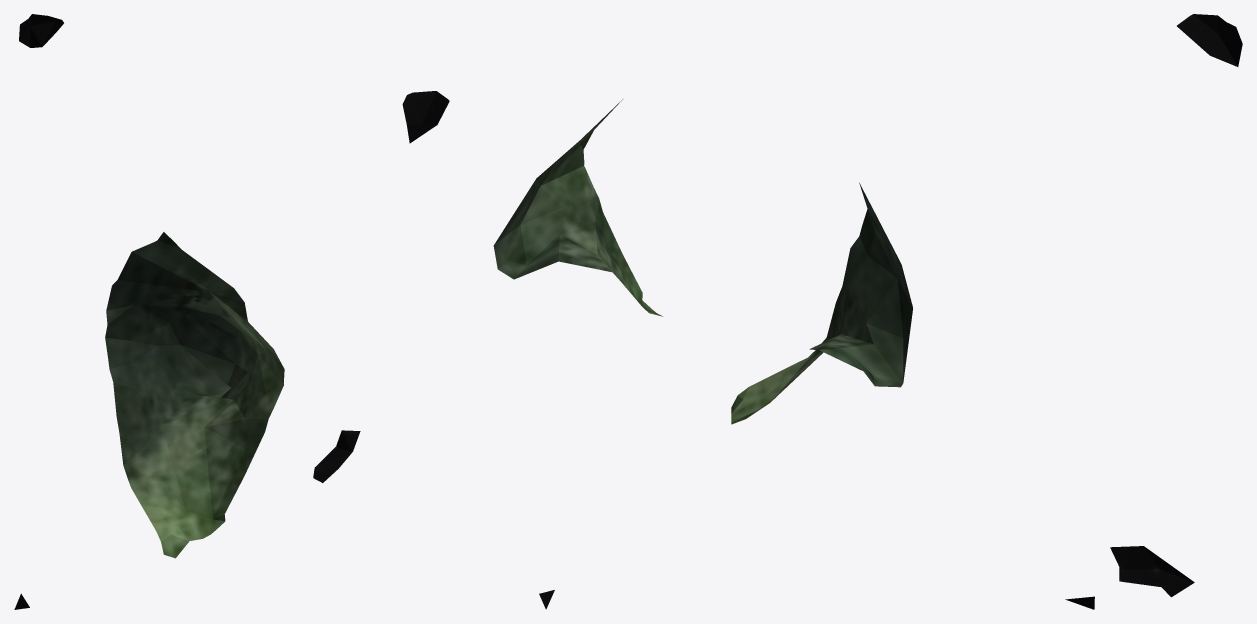
The picture shows the model from 3 angles, left to right: view 1: azimuth 30°, elevation 25°; view 2: azimuth 150°, elevation 25°; view 3: azimuth 270°, elevation 25°; orthographic projection. The views are drawn at different scales.
Size of the model in its own units: 1.79 by 4.38 by 3.23.
1 material, 1 textured.
